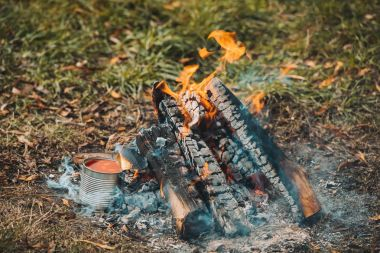fire: (165, 54, 217, 122)
